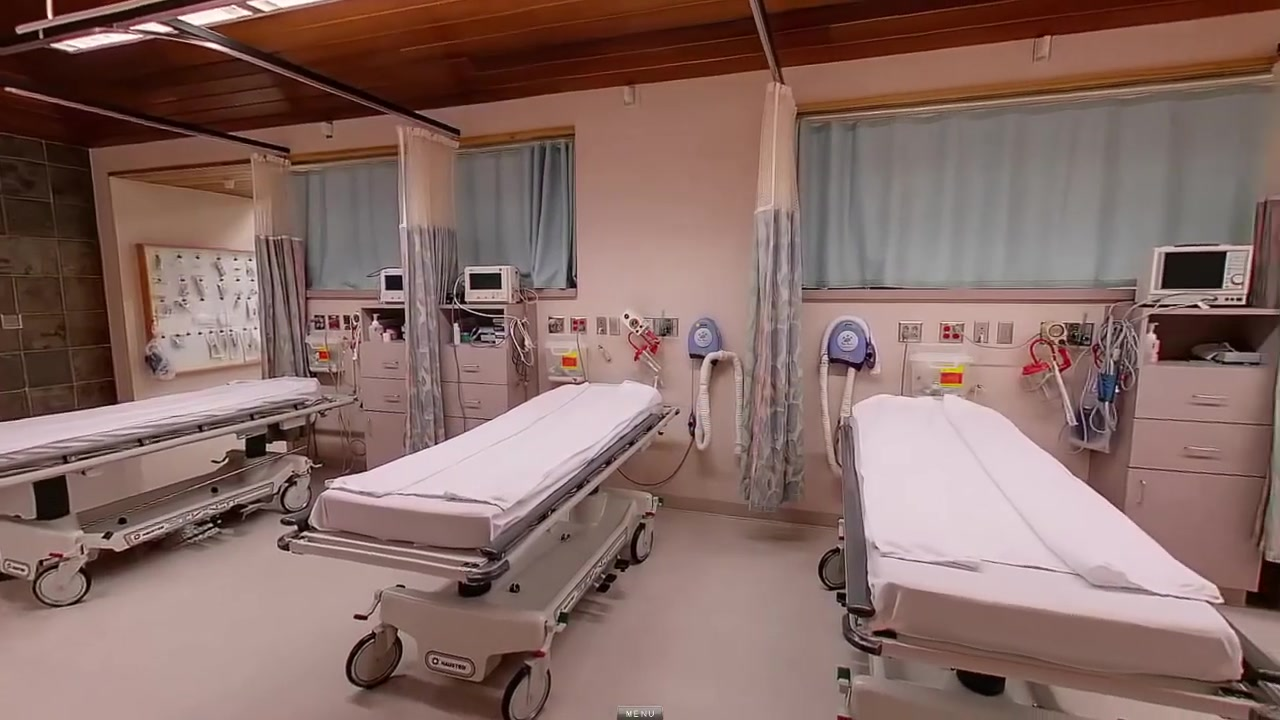bedside_monitor: (1134, 243, 1256, 307), (462, 264, 521, 302), (375, 268, 403, 303)
curtain: (738, 79, 801, 513), (399, 127, 459, 454), (251, 152, 311, 382)
dispenser: (369, 313, 385, 343)
handle: (1182, 445, 1224, 454), (1192, 393, 1233, 401), (1138, 480, 1147, 508), (460, 365, 481, 374), (463, 399, 481, 404), (381, 361, 400, 365), (383, 394, 400, 398)
hospital_bed: (841, 395, 1280, 720), (276, 383, 683, 720), (7, 376, 331, 608)
medical_drawer: (1108, 303, 1280, 605), (439, 307, 537, 443), (360, 304, 409, 470)
